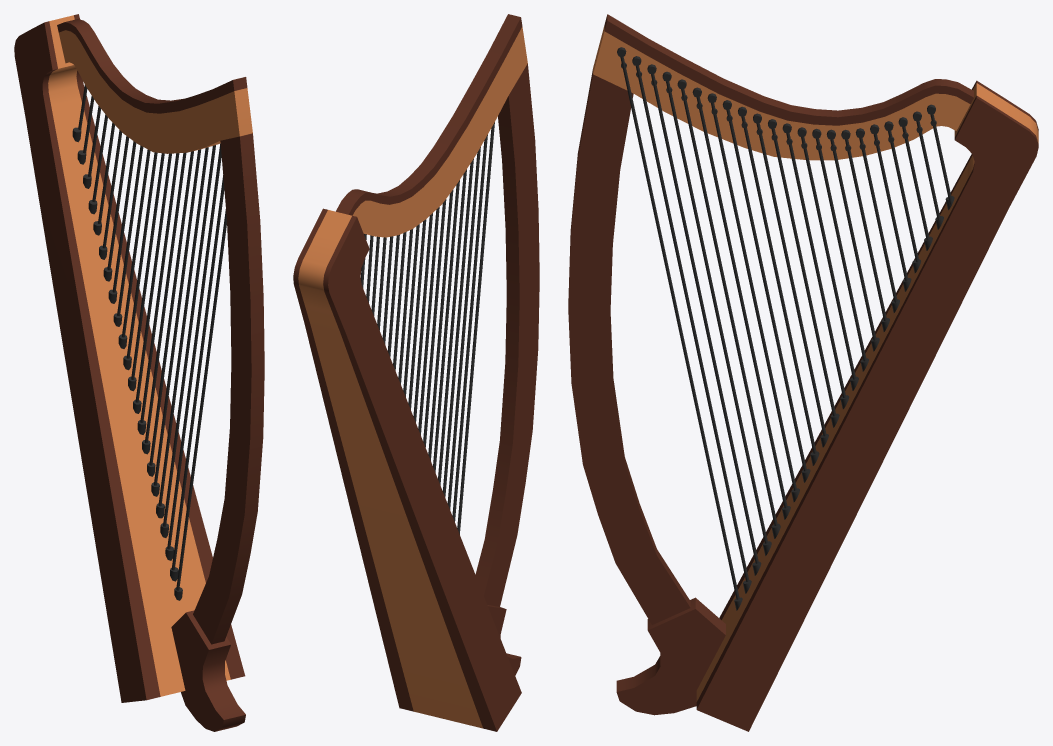
File: Harp_01.fbx
The picture shows the model from 3 angles, left to right: view 1: azimuth 30°, elevation 25°; view 2: azimuth 150°, elevation 25°; view 3: azimuth 270°, elevation 25°; orthographic projection. The views are drawn at different scales.
Visible parts, largest first — view 1: Harp_01; view 2: Harp_01; view 3: Harp_01.
Boxes of the visible parts, left/top/right/bottom form: Harp_01: left=14, top=14, right=264, bottom=731; Harp_01: left=293, top=14, right=539, bottom=731; Harp_01: left=568, top=14, right=1038, bottom=731.
Bounding box in the file's own units: 0.2016 × 1.3 × 0.7985.
